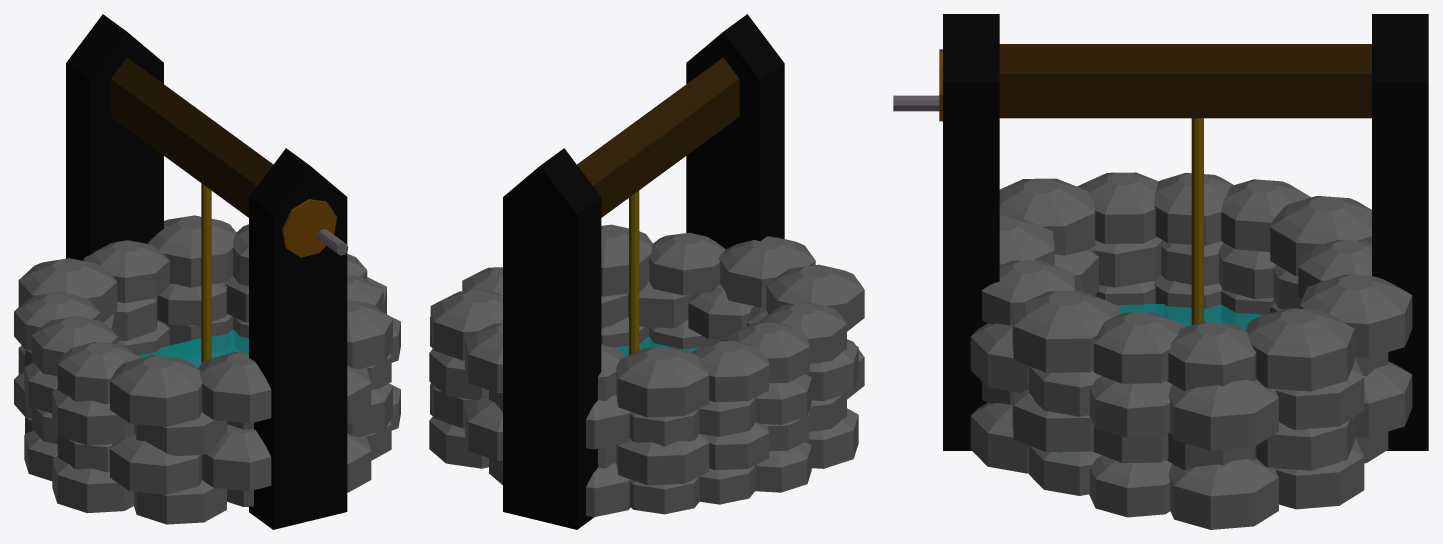
Rendered from well.fbx.
3 views of the same model, side by side, from view 1: azimuth 30°, elevation 25°; view 2: azimuth 150°, elevation 25°; view 3: azimuth 270°, elevation 25° (orthographic). The views are drawn at different scales.
Visible parts, largest first — view 1: Cylinder.004, Cube, Cylinder.002, Cylinder, Cube.002; view 2: Cylinder.004, Cube, Cylinder; view 3: Cylinder.004, Cube, Cylinder, Cube.002, Cylinder.002.
Part boxes in pixels (left/top/right/bottom): Cylinder.004: left=14, top=215, right=400, bottom=524; Cube: left=66, top=14, right=347, bottom=529; Cylinder.002: left=282, top=199, right=348, bottom=257; Cylinder: left=201, top=183, right=211, bottom=362; Cube.002: left=138, top=330, right=248, bottom=368; Cylinder.004: left=429, top=224, right=864, bottom=516; Cube: left=503, top=14, right=784, bottom=529; Cylinder: left=629, top=190, right=639, bottom=355; Cylinder.004: left=970, top=172, right=1412, bottom=529; Cube: left=943, top=14, right=1428, bottom=450; Cylinder: left=1191, top=118, right=1203, bottom=324; Cube.002: left=1059, top=304, right=1264, bottom=453; Cylinder.002: left=893, top=49, right=942, bottom=121.
Bounding box in the file's own units: 992 × 909 × 1060.
